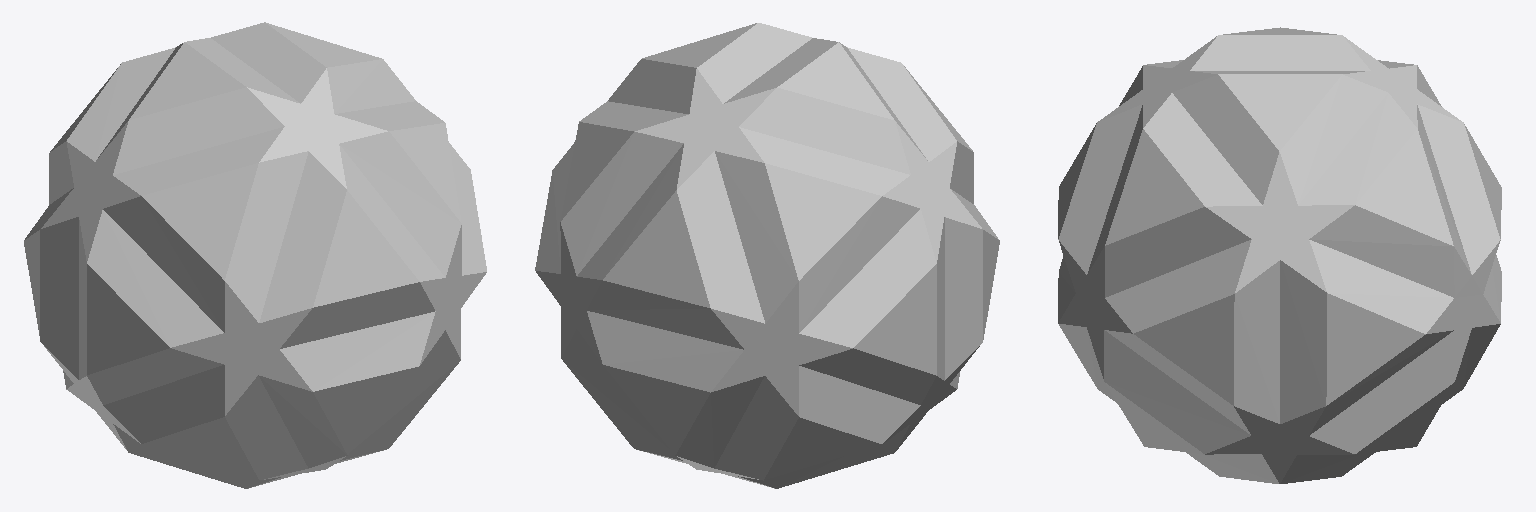
The model's file is small.obj.
3 renders of one model, left to right at view 1: azimuth 30°, elevation 25°; view 2: azimuth 150°, elevation 25°; view 3: azimuth 270°, elevation 25°, orthographic.
Parts seen in each view (by area): view 1: 20787_Small_Icosicosidodecahedron; view 2: 20787_Small_Icosicosidodecahedron; view 3: 20787_Small_Icosicosidodecahedron.
Boxes of the visible parts, box(x1,y1,x2,y2) form: 20787_Small_Icosicosidodecahedron: box(24, 22, 486, 488); 20787_Small_Icosicosidodecahedron: box(535, 23, 999, 488); 20787_Small_Icosicosidodecahedron: box(1058, 27, 1501, 483).
Size of the model in its own units: 9.67 by 9.68 by 9.68.